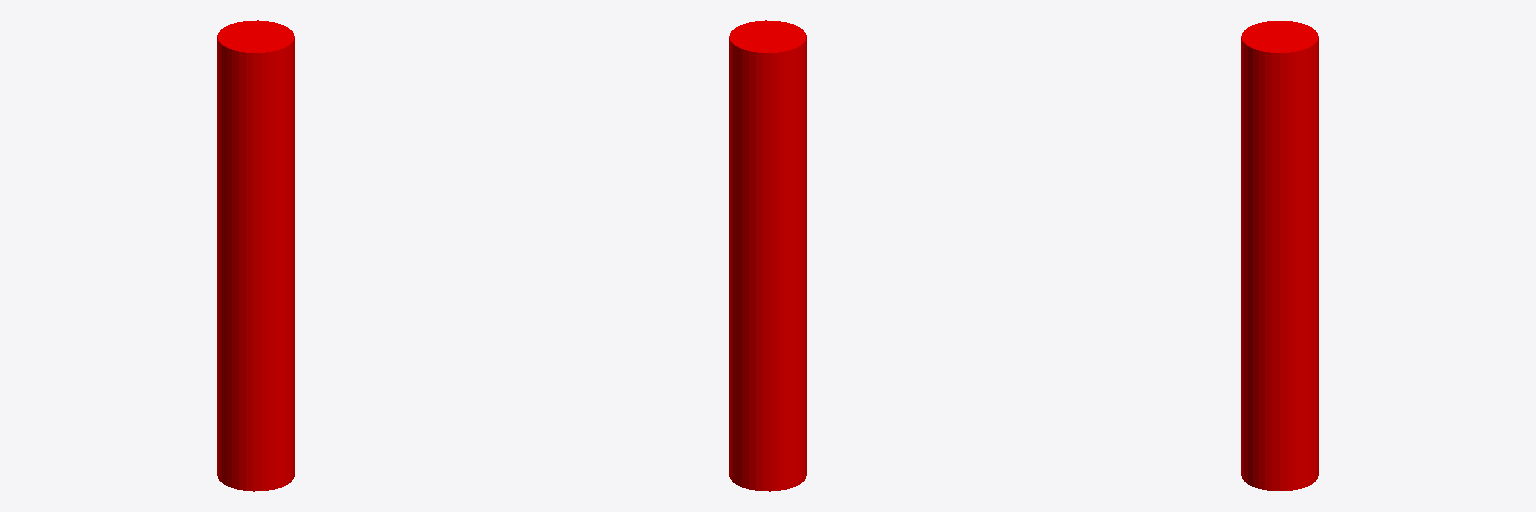
robot.urdf — robot:
<?xml version="1.0" encoding="utf-8"?>
<!-- =================================================================================== -->
<!-- |    This document was autogenerated by xacro from cylinder_camera.urdf.xacro     | -->
<!-- |    EDITING THIS FILE BY HAND IS NOT RECOMMENDED                                 | -->
<!-- =================================================================================== -->
<robot>
  <link name="base_link"/>
  <!--
    These properties must be observed by any machine
    that wants to be defined as a turtlebot. Refer
    to the REP for more details.

    http://www.ros.org/reps/rep-0119.html
   -->
  <!--
   ======================================================================
   - REP 119 : Rgb camera link relative to the Base link
   ======================================================================
     Base link is currently defined as the rotational centre on the bottom
     of the base mould. For both create and kobuki this is actually exactly
     the same 3d world point.

     This may cause an issue with a base with much different floor clearance.
     Should we be using base_footprint for this specification instead?

     Note: REP needs to be updated with the information below
     (currently in development and awaiting feedback)
   -->
  <link name="camera_rgb_frame"/>
  <joint name="camera_rgb_joint" type="fixed">
    <origin rpy="0.0 0.0 0.0" xyz="0.0 -0.25 0.04"/>
    <parent link="base_link"/>
    <child link="camera_rgb_frame"/>
  </joint>
  <link name="camera_rgb_optical_frame"/>
  <joint name="camera_rgb_optical_joint" type="fixed">
    <origin rpy="-1.57079632679 0 -1.57079632679" xyz="0 0 0"/>
    <parent link="camera_rgb_frame"/>
    <child link="camera_rgb_optical_frame"/>
  </joint>
  <link name="camera_link">
    <visual>
      <origin rpy="0 0 1.57079632679" xyz="0 0 0"/>
      <geometry>
        <mesh filename="package://gpd_simulation/meshes/kinect.dae"/>
      </geometry>
    </visual>
    <collision>
      <origin rpy="0 0 0" xyz="0.0 0.0 0.0"/>
      <geometry>
        <box size="0.07271 0.27794 0.073"/>
      </geometry>
    </collision>
    <inertial>
      <mass value="0.564"/>
      <origin xyz="0 0 0"/>
      <inertia ixx="0.003881243" ixy="0.0" ixz="0.0" iyy="0.000498940" iyz="0.0" izz="0.003879257"/>
    </inertial>
  </link>
  <joint name="camera_joint" type="fixed">
    <!-- <origin xyz="0 ${-cam_py} 0" rpy="0 0 0"/> -->
    <origin rpy="0 0 0" xyz="0 0 0"/>
    <parent link="camera_rgb_frame"/>
    <child link="camera_link"/>
  </joint>
  <!-- The fixed joints & links below are usually published by static_transformers launched by the OpenNi launch
         files. However, for Gazebo simulation we need them, so we add them here.
         (Hence, don't publish them additionally!) -->
  <link name="camera_depth_frame"/>
  <joint name="camera_depth_joint" type="fixed">
    <!-- <origin xyz="0 ${-cam_py} 0" rpy="0 0 0" /> -->
    <origin rpy="0 0 0" xyz="0 0 0"/>
    <parent link="camera_rgb_frame"/>
    <child link="camera_depth_frame"/>
  </joint>
  <link name="camera_depth_optical_frame"/>
  <joint name="camera_depth_optical_joint" type="fixed">
    <origin rpy="-1.57079632679 0 -1.57079632679" xyz="0 0 0"/>
    <parent link="camera_depth_frame"/>
    <child link="camera_depth_optical_frame"/>
  </joint>
  <gazebo reference="camera_link">
    <sensor name="camera" type="depth">
      <always_on>true</always_on>
      <update_rate>20.0</update_rate>
      <camera>
        <horizontal_fov>1.0471975512</horizontal_fov>
        <image>
          <format>B8G8R8</format>
          <width>640</width>
          <height>480</height>
        </image>
        <clip>
          <near>0.05</near>
          <far>8.0</far>
        </clip>
      </camera>
      <plugin filename="libgazebo_ros_openni_kinect.so" name="kinect_camera_controller">
        <cameraName>camera</cameraName>
        <alwaysOn>true</alwaysOn>
        <updateRate>10</updateRate>
        <imageTopicName>rgb/image_raw</imageTopicName>
        <depthImageTopicName>depth/image_raw</depthImageTopicName>
        <pointCloudTopicName>depth/points</pointCloudTopicName>
        <cameraInfoTopicName>rgb/camera_info</cameraInfoTopicName>
        <depthImageCameraInfoTopicName>depth/camera_info</depthImageCameraInfoTopicName>
        <frameName>camera_depth_optical_frame</frameName>
        <baseline>0.1</baseline>
        <distortion_k1>0.0</distortion_k1>
        <distortion_k2>0.0</distortion_k2>
        <distortion_k3>0.0</distortion_k3>
        <distortion_t1>0.0</distortion_t1>
        <distortion_t2>0.0</distortion_t2>
        <pointCloudCutoff>0.4</pointCloudCutoff>
      </plugin>
    </sensor>
  </gazebo>
  <link name="cylinder_link">
    <visual>
      <geometry>
        <cylinder length="0.25" radius="0.02"/>
      </geometry>
      <material name="red">
        <color rgba="1 0 0 1"/>
      </material>
    </visual>
  </link>
  <joint name="base_to_cylinder" type="fixed">
    <parent link="base_link"/>
    <child link="cylinder_link"/>
    <origin rpy="0 0 0" xyz="0.5 -0.25 0.125"/>
  </joint>
</robot>

--- Facts derived from the render (not from the file) ---
The picture shows the robot from 3 angles, left to right: view 1: azimuth 30°, elevation 25°; view 2: azimuth 150°, elevation 25°; view 3: azimuth 270°, elevation 25°; orthographic projection.
Model robot with 7 links and 6 joints (6 fixed), rooted at base_link, posed every joint at zero.
Visible links, largest first — view 1: cylinder_link; view 2: cylinder_link; view 3: cylinder_link.
Link boxes in pixels (box(x1,y1,x2,y2)): cylinder_link: box(217, 20, 294, 491); cylinder_link: box(729, 20, 806, 491); cylinder_link: box(1241, 21, 1318, 490).
Size in the robot's own frame: 0.04 by 0.04 by 0.25 metres.
Meshes: 1 distinct files referenced, 0 mesh visuals loaded (none loaded); not drawn: 1 (reference not matched to a file when rendering).